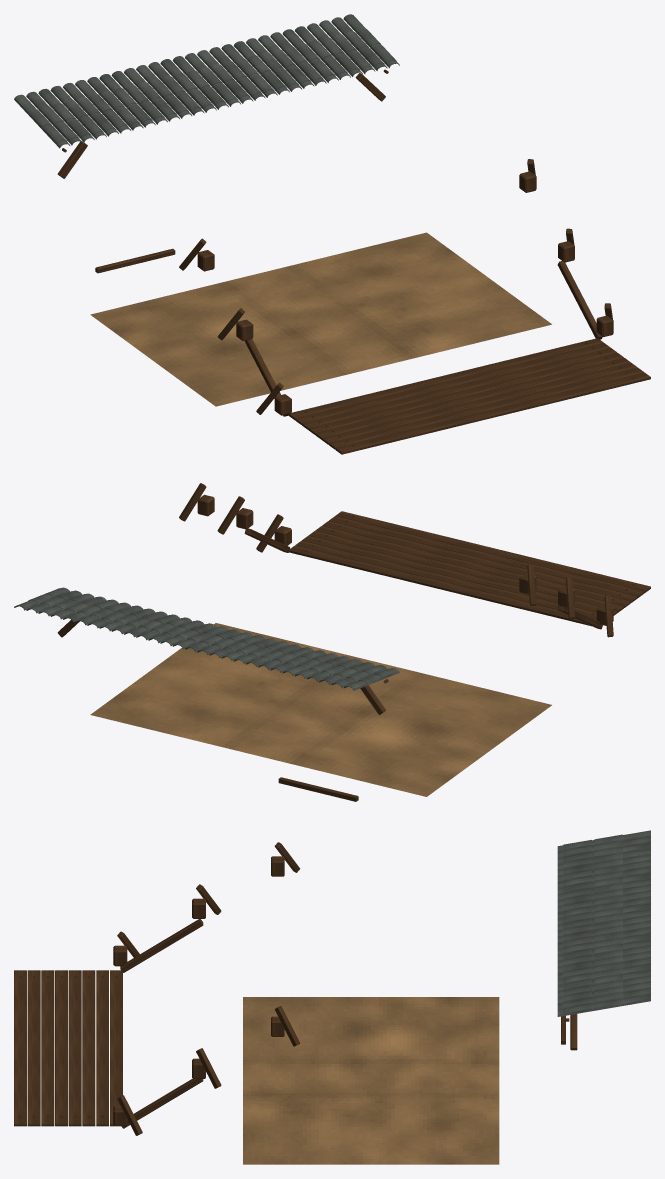
File: closeup-kit.glb
The picture shows the model from 3 angles, top to bottom: view 1: azimuth 30°, elevation 25°; view 2: azimuth 150°, elevation 25°; view 3: azimuth 270°, elevation 25°; orthographic projection.
Visible parts, largest first — view 1: detail_market__V2 irregular dust and ruts, detail_bridge__V2 seasoned timber, detail_market__V2 fired grey tile, detail_market__V2 seasoned timber; view 2: detail_market__V2 irregular dust and ruts, detail_bridge__V2 seasoned timber, detail_market__V2 fired grey tile, detail_market__V2 seasoned timber; view 3: detail_market__V2 irregular dust and ruts, detail_bridge__V2 seasoned timber, detail_market__V2 fired grey tile.
Part boxes in pixels (<box>): detail_market__V2 irregular dust and ruts: <box>90,232,551,406</box>; detail_bridge__V2 seasoned timber: <box>179,159,650,454</box>; detail_market__V2 fired grey tile: <box>14,14,399,148</box>; detail_market__V2 seasoned timber: <box>57,69,388,273</box>; detail_market__V2 irregular dust and ruts: <box>90,623,551,796</box>; detail_bridge__V2 seasoned timber: <box>179,483,650,637</box>; detail_market__V2 fired grey tile: <box>14,587,399,690</box>; detail_market__V2 seasoned timber: <box>57,620,388,801</box>; detail_market__V2 irregular dust and ruts: <box>243,997,499,1164</box>; detail_bridge__V2 seasoned timber: <box>14,842,300,1135</box>; detail_market__V2 fired grey tile: <box>557,830,650,1016</box>.
Bounding box in the file's own units: 7.22 × 3.17 × 10.93.
Materials: 3 (3 with a texture image).
